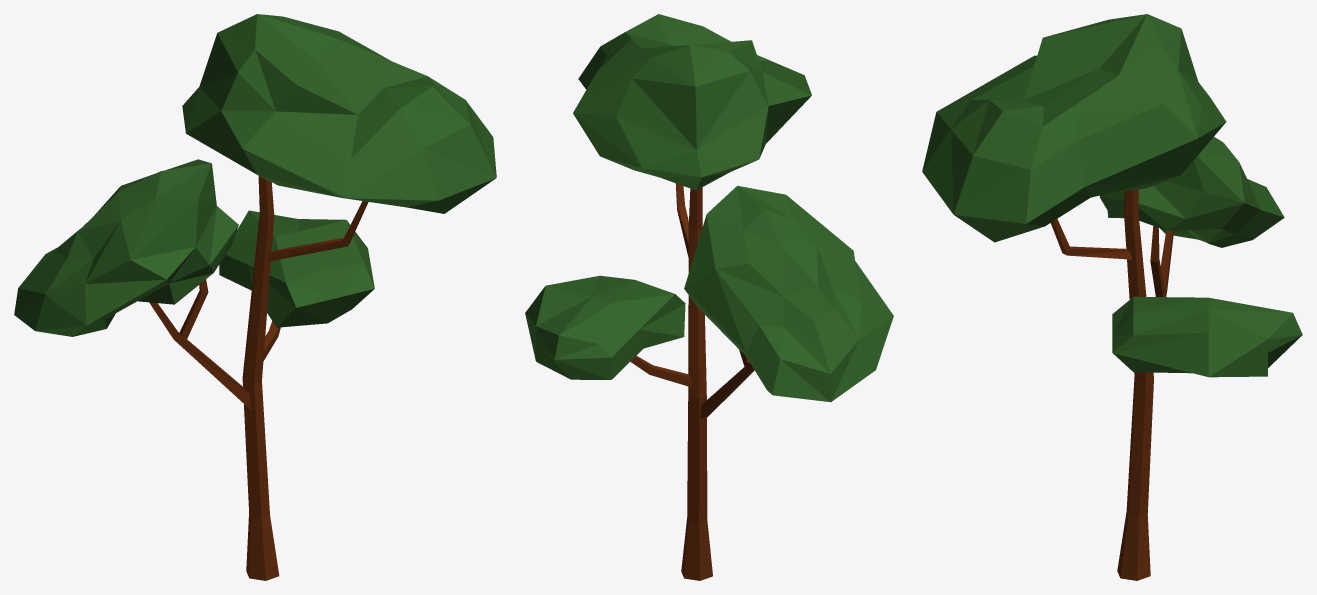
Rendered from tree_08.glb.
3 views of the same model, side by side, from view 1: azimuth 30°, elevation 25°; view 2: azimuth 150°, elevation 25°; view 3: azimuth 270°, elevation 25° (orthographic). The views are drawn at different scales.
Visible parts, largest first — view 1: Tree_temp_climate_008; view 2: Tree_temp_climate_008; view 3: Tree_temp_climate_008.
Boxes of the visible parts, bbox=[...] form: Tree_temp_climate_008: bbox=[14, 14, 496, 580]; Tree_temp_climate_008: bbox=[525, 14, 893, 580]; Tree_temp_climate_008: bbox=[922, 14, 1302, 580].
Bounding box in the file's own units: 0.0706 × 0.0974 × 0.06.
1 material, 1 textured.
